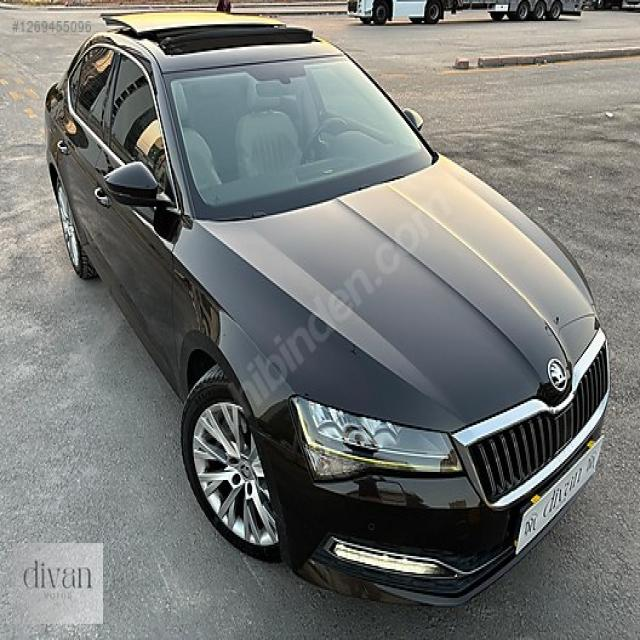skoda: (549, 354, 566, 391)
